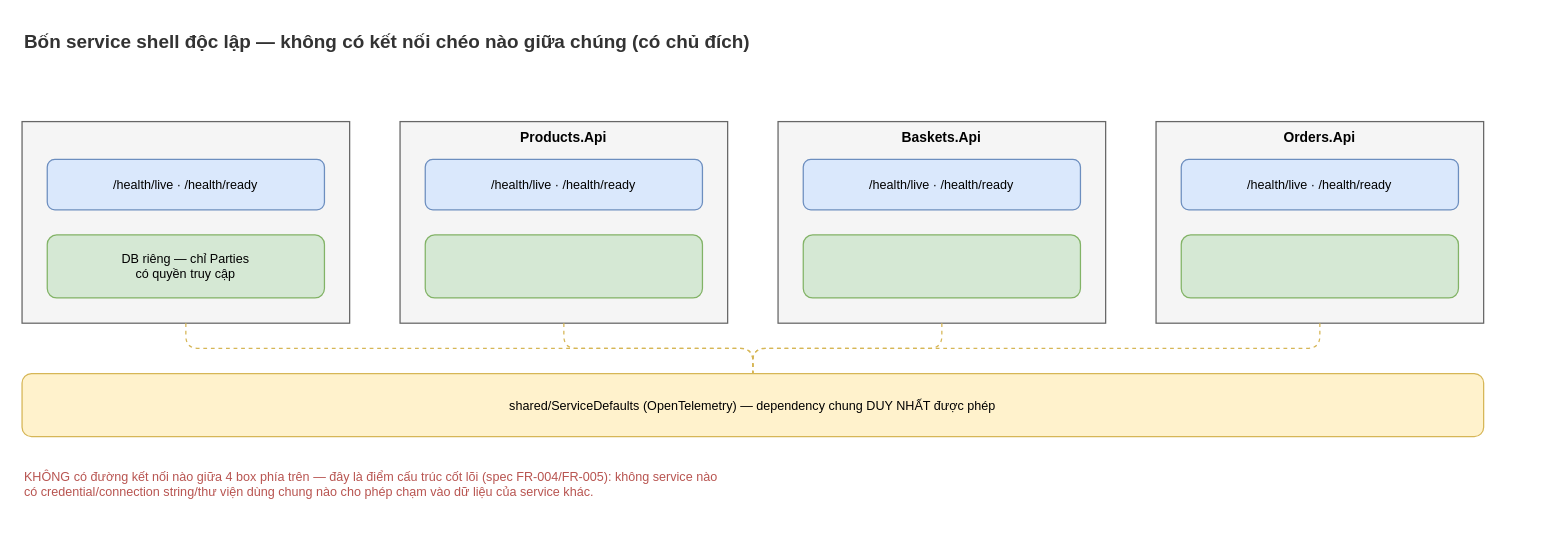
This 1556x533 diagram has some shape labels left out. Here are the shapes that lost their labels. From the top down, the box of each, then its label:
(21, 120, 350, 323): Parties.Api
(424, 234, 702, 298): DB riêng — chỉ Products có quyền truy cập
(802, 234, 1080, 298): DB riêng — chỉ Baskets có quyền truy cập
(1180, 234, 1458, 298): DB riêng — chỉ Orders có quyền truy cập
